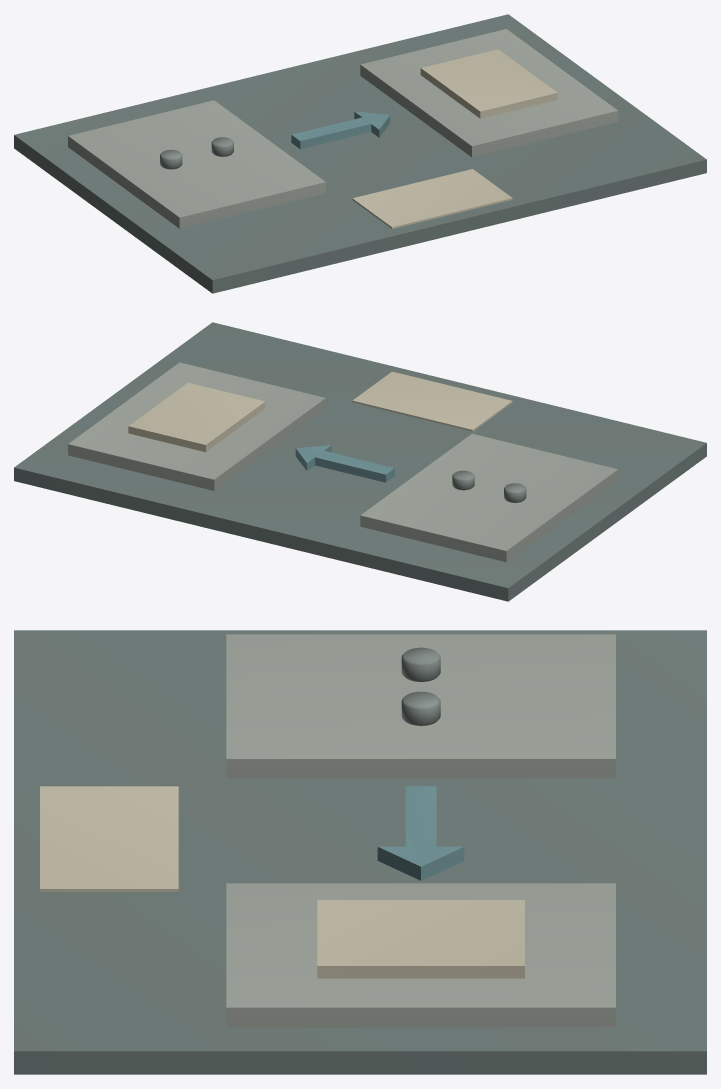
Rendered from letters-delivery.glb.
3 renders of one model, top to bottom at view 1: azimuth 30°, elevation 25°; view 2: azimuth 150°, elevation 25°; view 3: azimuth 270°, elevation 25°, orthographic. The views are drawn at different scales.
Visible parts, largest first — view 1: letters-delivery-letters-modern-neutral-support, letters-delivery-letters-modern-separate-reading-ends, letters-delivery-letters-modern-separate-reading-ends.001, letters-delivery-letters-modern-blank-document-comparison, letters-delivery-letters-modern-blank-document-comparison.00, letters-delivery-letters-modern-direction-marker, letters-delivery-letters-modern-neutral-relational-markers; view 2: letters-delivery-letters-modern-neutral-support, letters-delivery-letters-modern-separate-reading-ends, letters-delivery-letters-modern-separate-reading-ends.001, letters-delivery-letters-modern-blank-document-comparison, letters-delivery-letters-modern-blank-document-comparison.00, letters-delivery-letters-modern-direction-marker, letters-delivery-letters-modern-neutral-relational-markers; view 3: letters-delivery-letters-modern-neutral-support, letters-delivery-letters-modern-separate-reading-ends, letters-delivery-letters-modern-separate-reading-ends.001, letters-delivery-letters-modern-blank-document-comparison, letters-delivery-letters-modern-blank-document-comparison.00, letters-delivery-letters-modern-direction-marker, letters-delivery-letters-modern-neutral-relational-markers.
Part boxes in pixels (box(x1,y1,x2,y2)): letters-delivery-letters-modern-neutral-support: box(14, 14, 706, 293); letters-delivery-letters-modern-separate-reading-ends: box(68, 100, 325, 228); letters-delivery-letters-modern-separate-reading-ends.001: box(360, 29, 618, 157); letters-delivery-letters-modern-blank-document-comparison: box(420, 49, 557, 118); letters-delivery-letters-modern-blank-document-comparison.00: box(352, 169, 512, 228); letters-delivery-letters-modern-direction-marker: box(291, 111, 390, 149); letters-delivery-letters-modern-neutral-relational-markers: box(160, 137, 233, 169); letters-delivery-letters-modern-neutral-support: box(14, 322, 706, 601); letters-delivery-letters-modern-separate-reading-ends: box(360, 433, 618, 562); letters-delivery-letters-modern-separate-reading-ends.001: box(68, 362, 325, 490); letters-delivery-letters-modern-blank-document-comparison: box(128, 382, 265, 452); letters-delivery-letters-modern-blank-document-comparison.00: box(352, 371, 512, 431); letters-delivery-letters-modern-direction-marker: box(295, 445, 394, 482); letters-delivery-letters-modern-neutral-relational-markers: box(452, 470, 526, 502); letters-delivery-letters-modern-neutral-support: box(14, 630, 706, 1074); letters-delivery-letters-modern-separate-reading-ends: box(226, 634, 615, 778); letters-delivery-letters-modern-separate-reading-ends.001: box(226, 883, 615, 1027); letters-delivery-letters-modern-blank-document-comparison: box(317, 900, 524, 978); letters-delivery-letters-modern-blank-document-comparison.00: box(40, 786, 178, 891); letters-delivery-letters-modern-direction-marker: box(377, 786, 464, 880); letters-delivery-letters-modern-neutral-relational-markers: box(401, 647, 440, 725).
Bounding box in the file's own units: 1.15 × 0.08 × 0.8.
